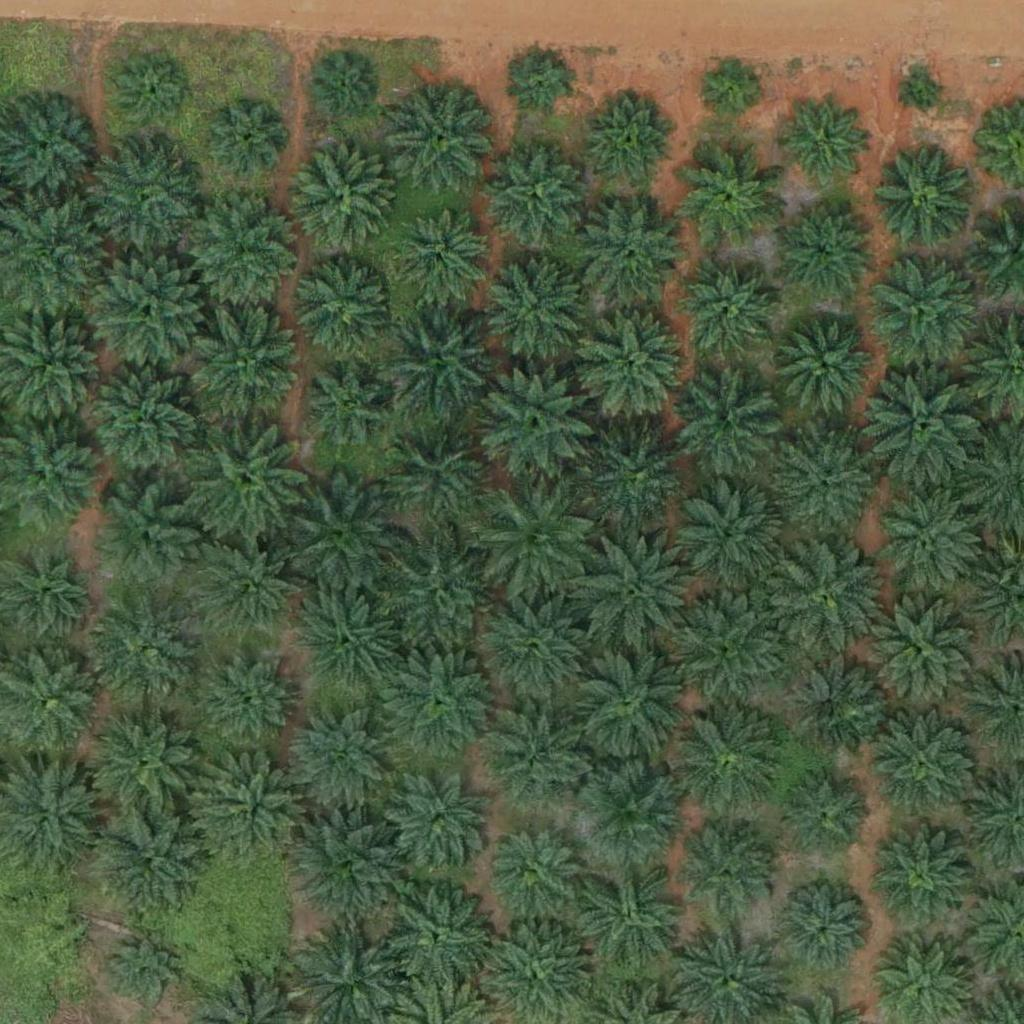Kelapa_Sawit: (83, 360, 208, 486), (184, 302, 309, 428), (183, 417, 308, 543), (279, 473, 404, 599), (375, 293, 500, 419), (374, 412, 499, 538), (374, 528, 499, 654), (475, 362, 600, 488), (473, 480, 598, 606), (570, 528, 695, 654), (858, 366, 983, 492), (566, 642, 691, 768), (473, 582, 598, 708), (376, 639, 501, 765), (571, 305, 696, 430), (761, 536, 886, 661), (668, 585, 793, 710), (668, 698, 793, 823), (294, 803, 407, 917), (87, 598, 200, 712), (87, 484, 200, 597), (187, 195, 300, 308), (573, 864, 686, 977), (197, 758, 310, 871), (87, 707, 200, 820), (91, 808, 204, 921), (90, 251, 202, 365), (195, 530, 307, 644), (381, 770, 493, 884), (382, 877, 494, 991), (85, 136, 197, 249), (867, 249, 979, 362), (870, 485, 982, 598), (292, 145, 392, 246), (291, 260, 391, 361), (394, 86, 494, 187), (388, 207, 488, 308), (485, 143, 585, 244), (485, 255, 585, 356), (580, 200, 680, 301), (588, 427, 688, 528), (682, 147, 782, 248), (677, 262, 777, 363), (678, 376, 778, 477), (682, 480, 782, 581), (774, 199, 874, 300), (776, 315, 876, 416), (773, 431, 873, 532), (870, 603, 970, 704), (874, 717, 974, 818), (868, 828, 968, 929), (782, 654, 882, 755), (679, 822, 779, 923), (582, 763, 682, 864), (491, 706, 591, 807), (298, 356, 398, 456), (874, 144, 974, 244), (297, 587, 397, 687), (288, 708, 388, 808), (195, 654, 295, 754), (779, 774, 867, 863), (779, 99, 867, 187), (776, 886, 864, 974), (591, 96, 678, 184), (492, 827, 579, 915), (114, 57, 189, 133), (211, 101, 286, 176), (107, 934, 182, 1009), (312, 55, 375, 118), (512, 53, 574, 116), (698, 54, 760, 117), (905, 74, 942, 112)
